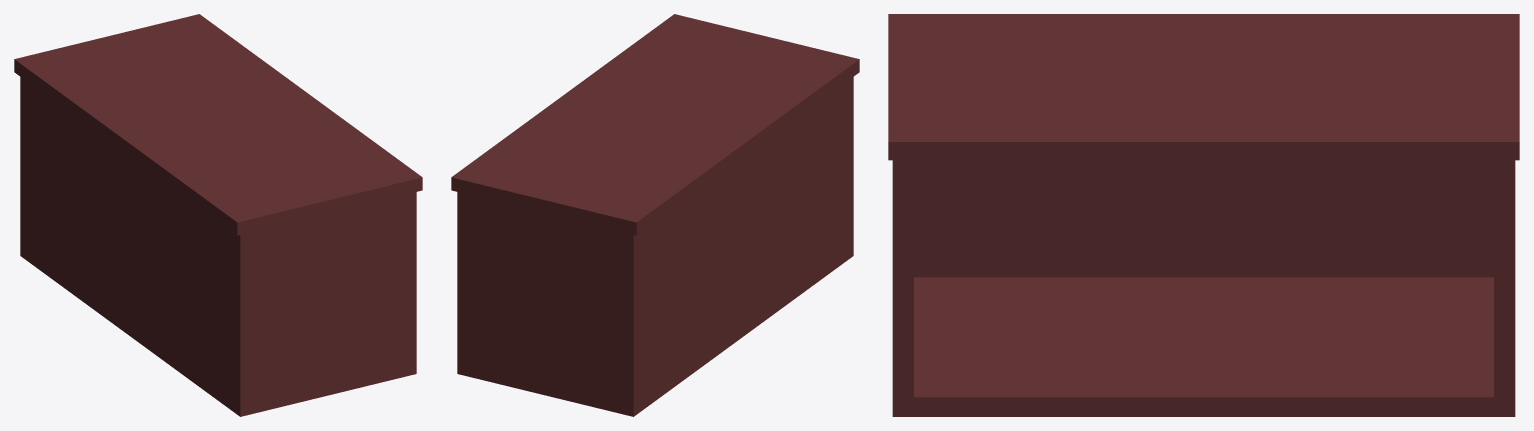
The model's file is One shelf.fbx.
3 views of the same model, side by side, from view 1: azimuth 30°, elevation 25°; view 2: azimuth 150°, elevation 25°; view 3: azimuth 270°, elevation 25° (orthographic). The views are drawn at different scales.
Visible parts, largest first — view 1: Cube_2, Cube; view 2: Cube_2, Cube; view 3: Cube_2, Cube.
Part boxes in pixels (<box>): Cube_2: <box>20,77,416,416</box>; Cube: <box>14,14,422,235</box>; Cube_2: <box>457,77,853,416</box>; Cube: <box>451,14,859,235</box>; Cube_2: <box>892,160,1515,416</box>; Cube: <box>888,14,1519,160</box>.
Bounding box in the file's own units: 112 × 114 × 234.
